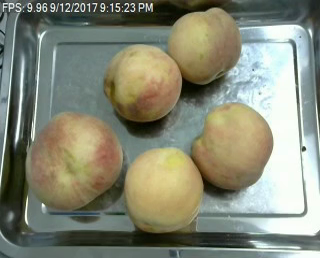Peach: (27, 110, 123, 212), (190, 103, 273, 190), (123, 146, 203, 232), (103, 42, 180, 122), (167, 7, 243, 85)
